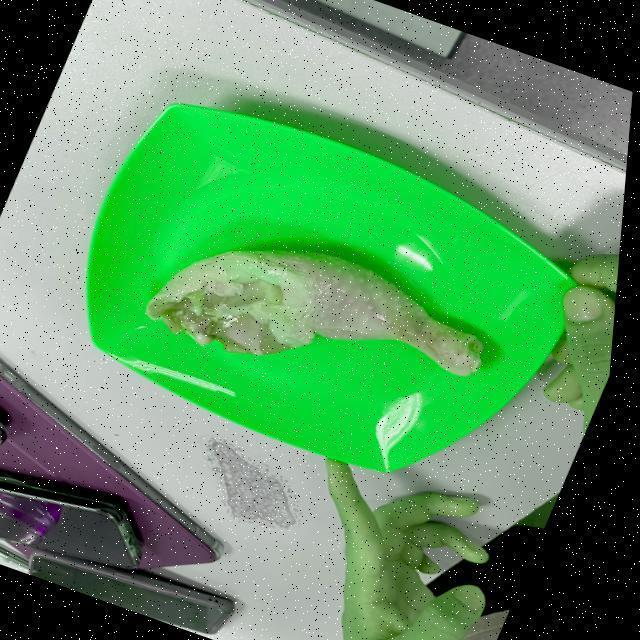quater: (140, 244, 491, 384)
